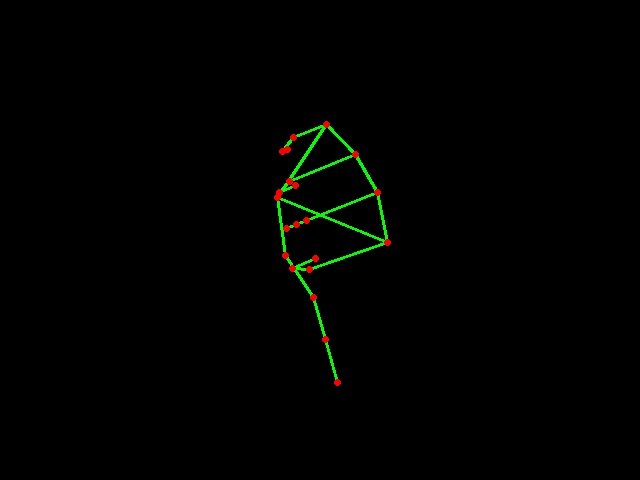slow: (266, 106, 405, 396)
